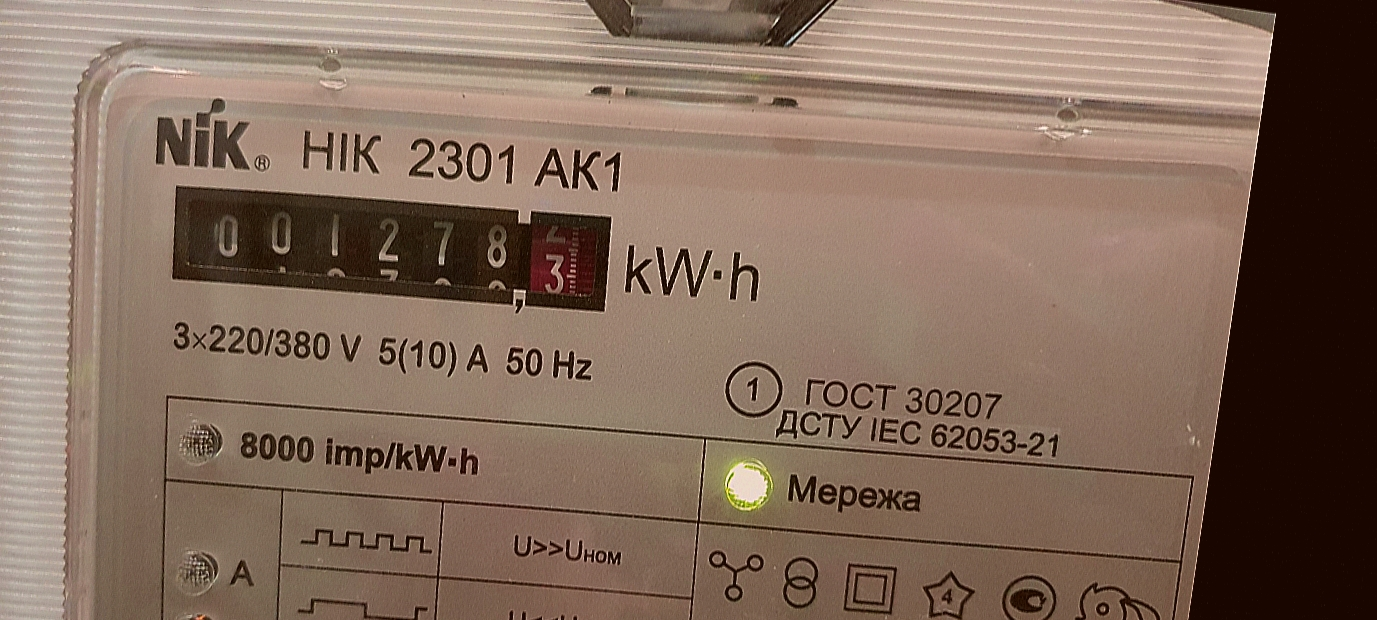0: (212, 209, 247, 261), (265, 208, 297, 257)
1: (324, 210, 348, 260)
2: (372, 214, 406, 264), (541, 222, 570, 247)
3: (538, 248, 570, 295)
7: (427, 217, 456, 268)
8: (481, 221, 513, 271)
screen: (143, 142, 636, 352)
